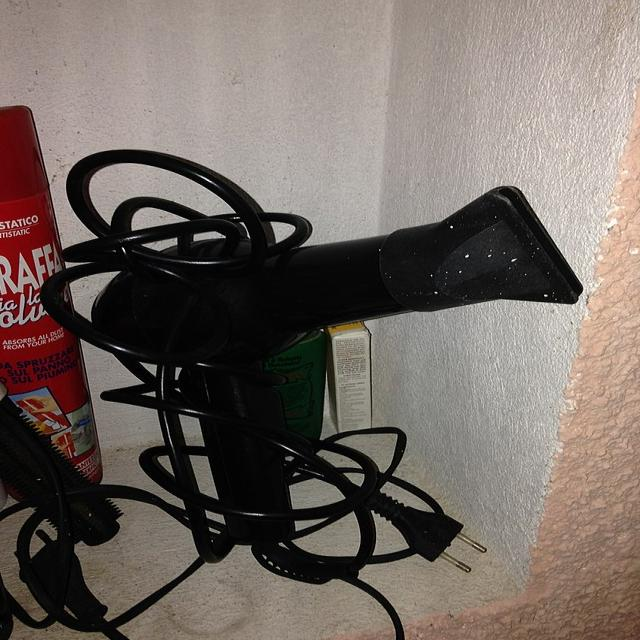dryer: (89, 180, 588, 547)
